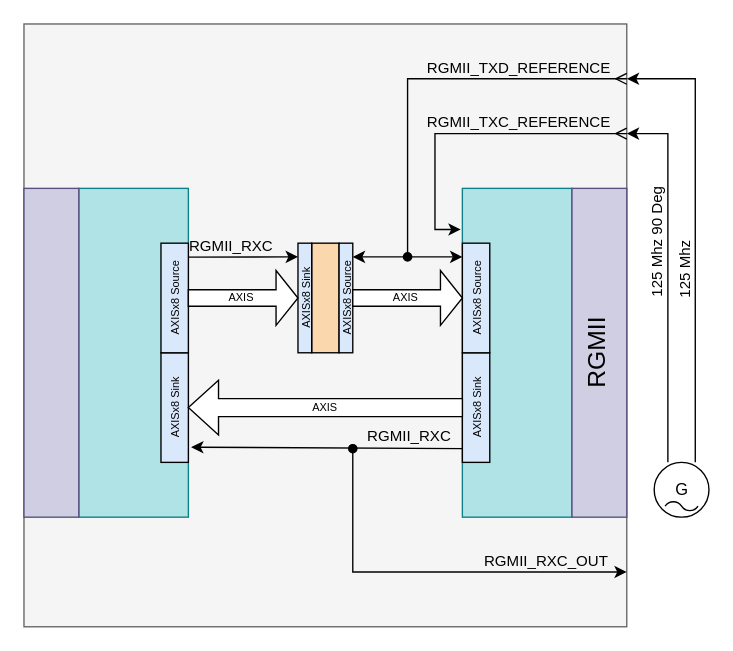
Image size: 733x651. Some labels were removed from this diagram. The box of each missing label's shape, as (x1, y1, x2, y2) in pixels:
AXISx8_RGMII_BRIDGE TX REFERENCE CLK is REFERENCE_125MHz: (461, 187, 572, 517)
Clock Crossing FIFO: (310, 242, 339, 353)
GMII/MII: (23, 187, 79, 517)
